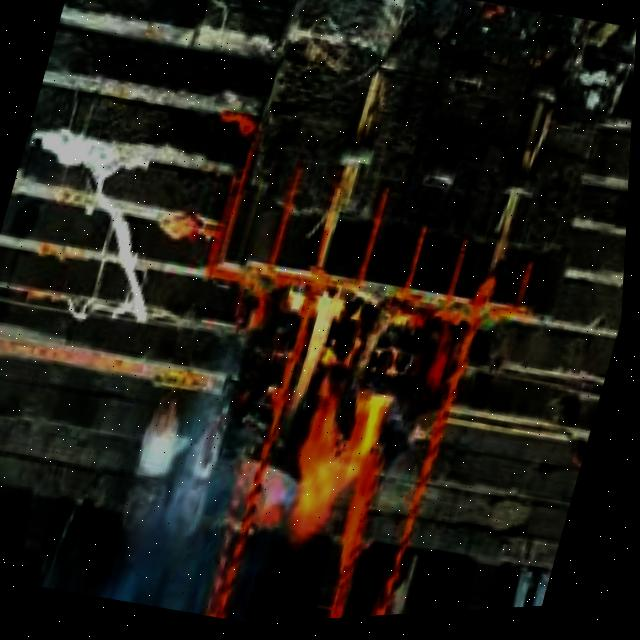Fire: (247, 285, 424, 575)
